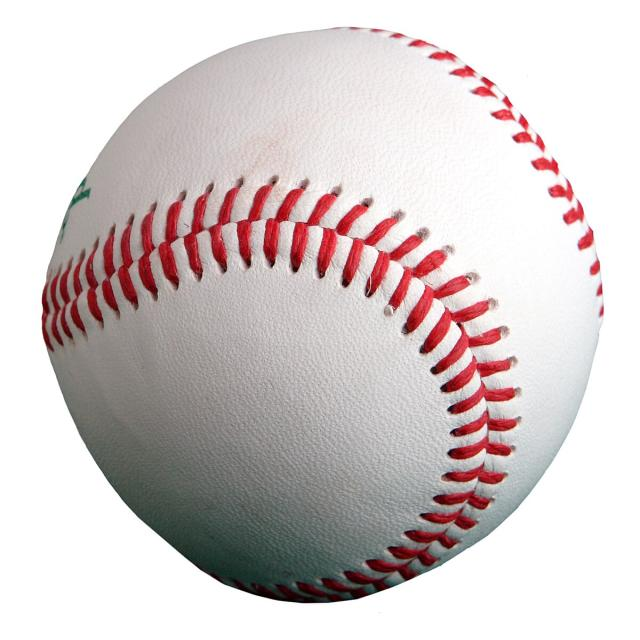beisbol ball: (41, 26, 604, 601)
